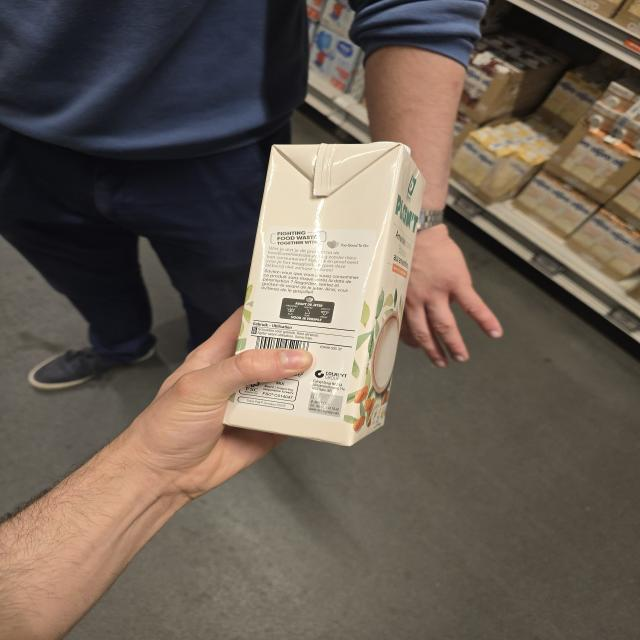Milk: (224, 142, 424, 446)
